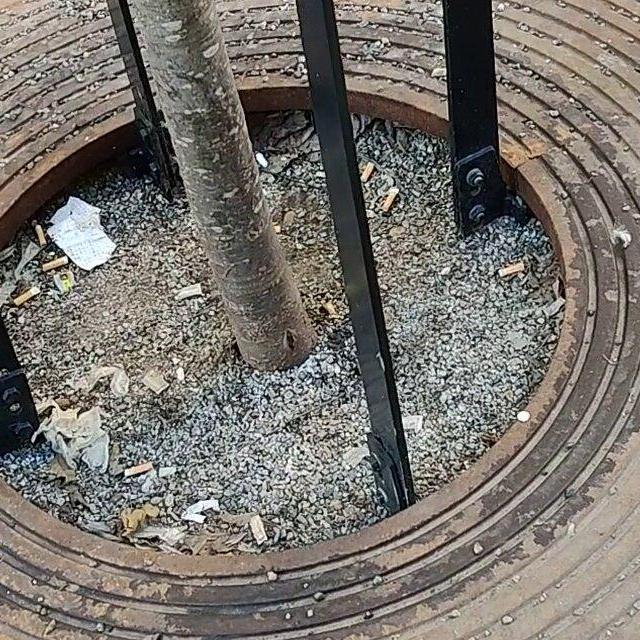Cigarette Butt: (381, 181, 399, 214), (38, 257, 70, 274), (10, 290, 37, 310), (497, 264, 530, 279), (122, 462, 156, 476), (32, 223, 51, 246), (358, 160, 379, 178)
